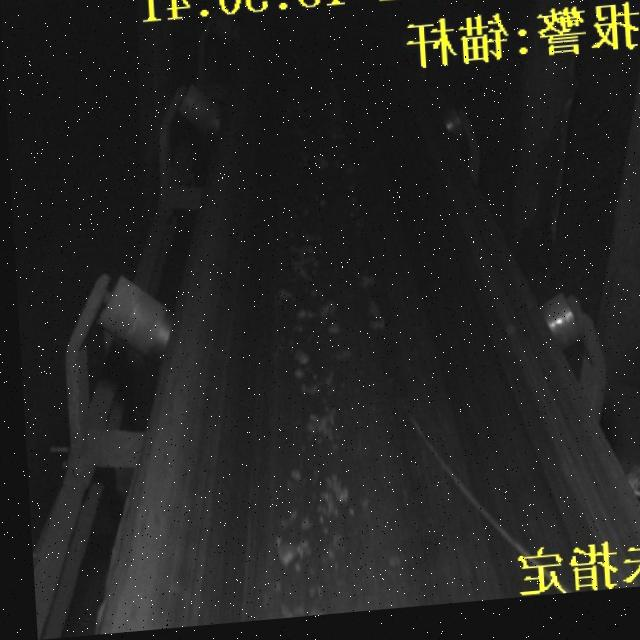bolt: (410, 419, 513, 560)
